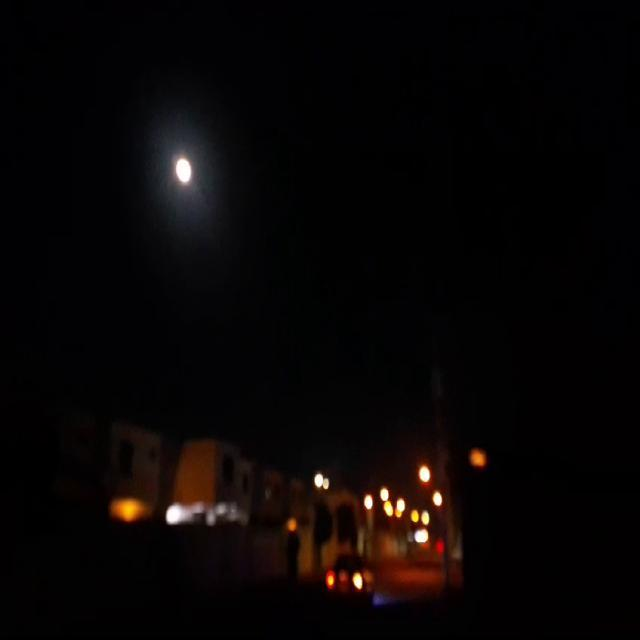moon: (172, 155, 192, 189)
